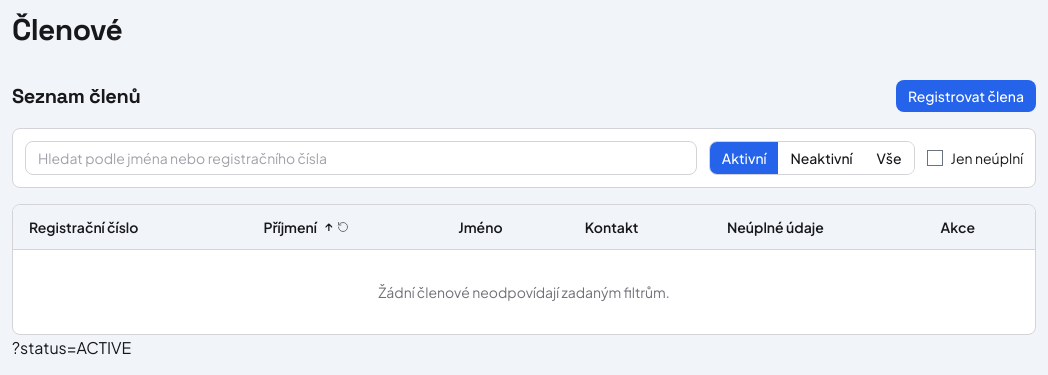
Scenario: MembersPage — filter bar integration › clicking Vše pill updates the URL to ?status=ALL when hasManageAuthority is true
Click the button "Vše" at (889,158), box [864,142,914,174]
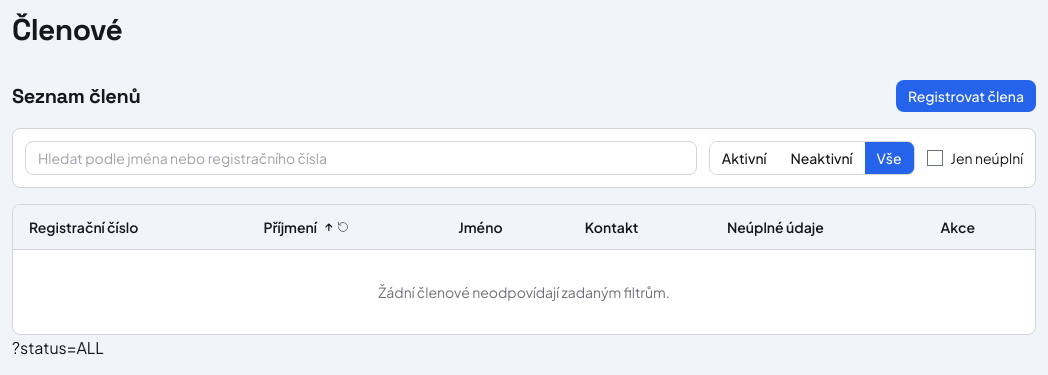
Expected: the text with test id "search-string" shows "status=ALL", [12,337,104,358]
